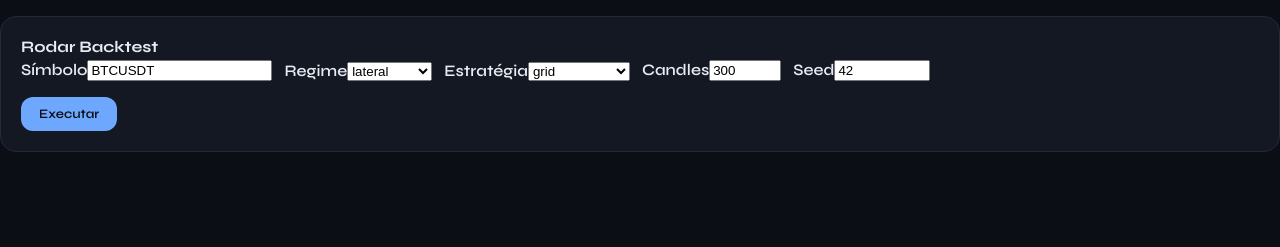
Test case: BacktestRunner › exibe erro quando runBacktest falha
Click the button "Executar" at x=69, y=114, box top-left (21, 97), bottom-right (117, 131)
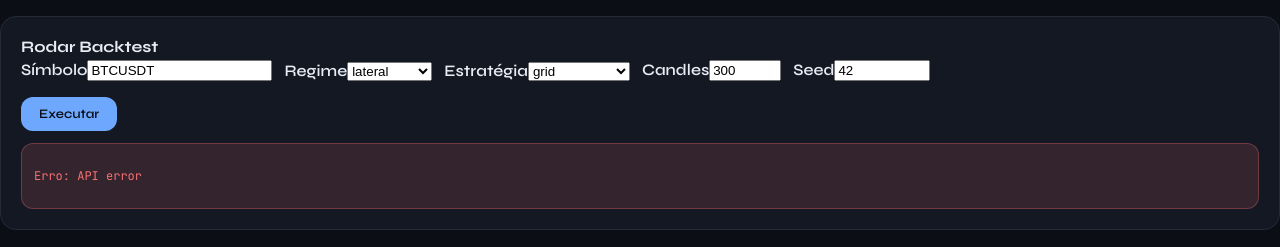
Check: the text "Erro: API error" is shown, box top-left (34, 168), bottom-right (142, 184)
